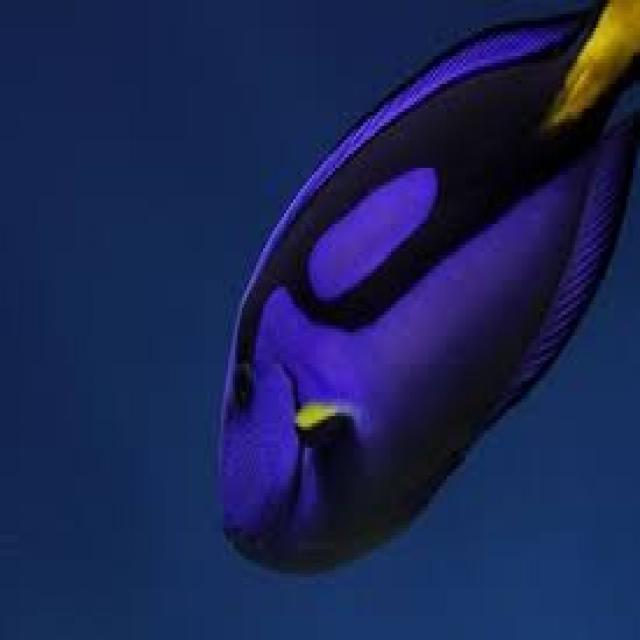BlueTang: (192, 0, 640, 605)
